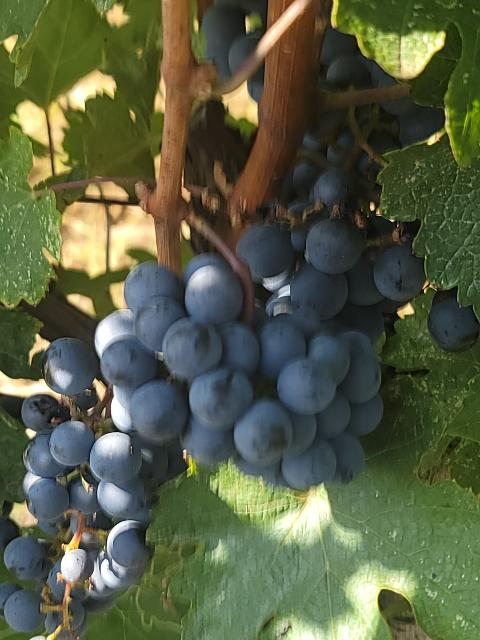grapes: (96, 254, 384, 490), (0, 338, 150, 640)
